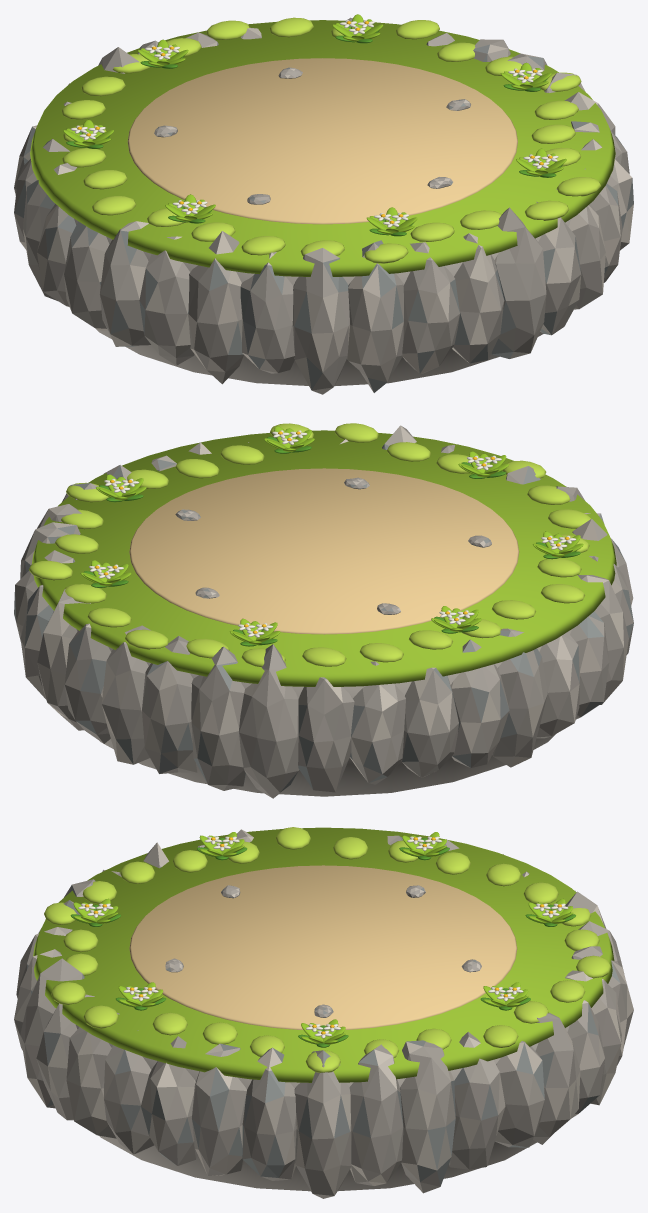
The model's file is island_large.glb.
3 views of the same model, one above another, from view 1: azimuth 30°, elevation 25°; view 2: azimuth 150°, elevation 25°; view 3: azimuth 270°, elevation 25° (orthographic).
Parts seen in each view (by area): view 1: island_large; view 2: island_large; view 3: island_large.
Boxes of the visible parts, x1=… form: island_large: x1=14, y1=14, x2=633, y2=394; island_large: x1=14, y1=423, x2=633, y2=798; island_large: x1=14, y1=827, x2=633, y2=1198.
Size of the model in its own units: 6.27 by 1.79 by 6.3.
